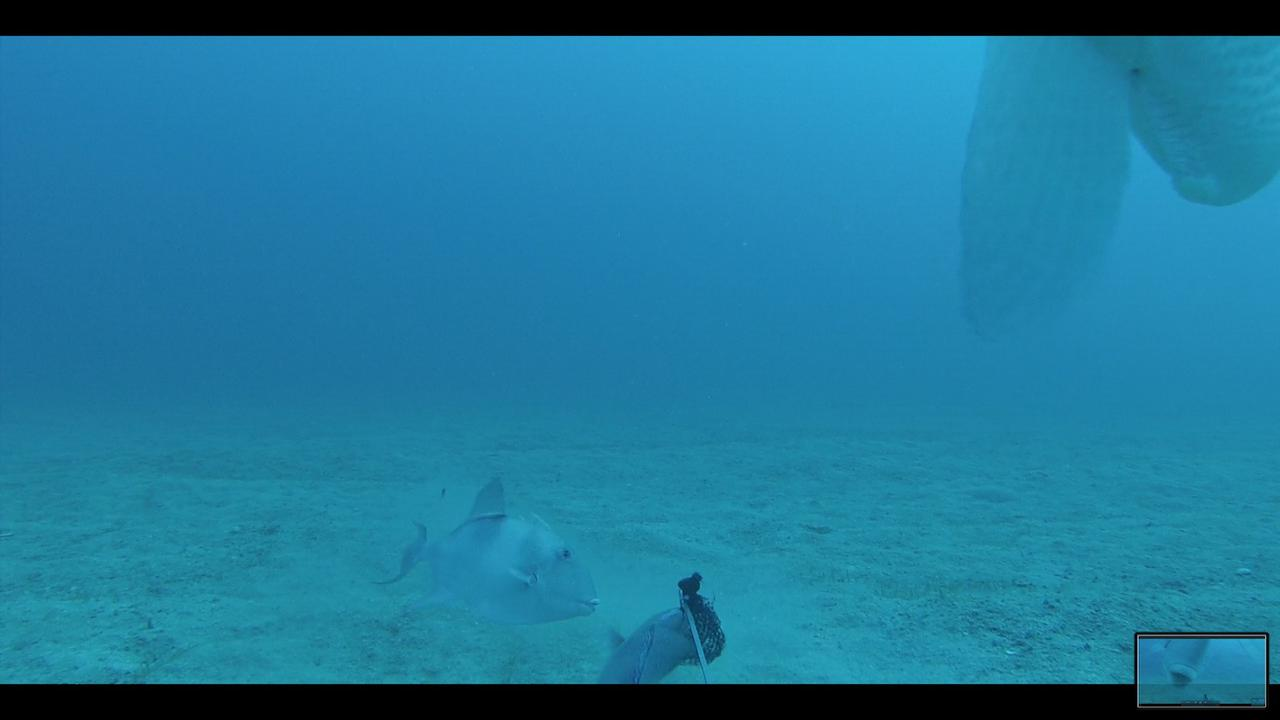balistes: (366, 467, 597, 629), (582, 605, 692, 682)
